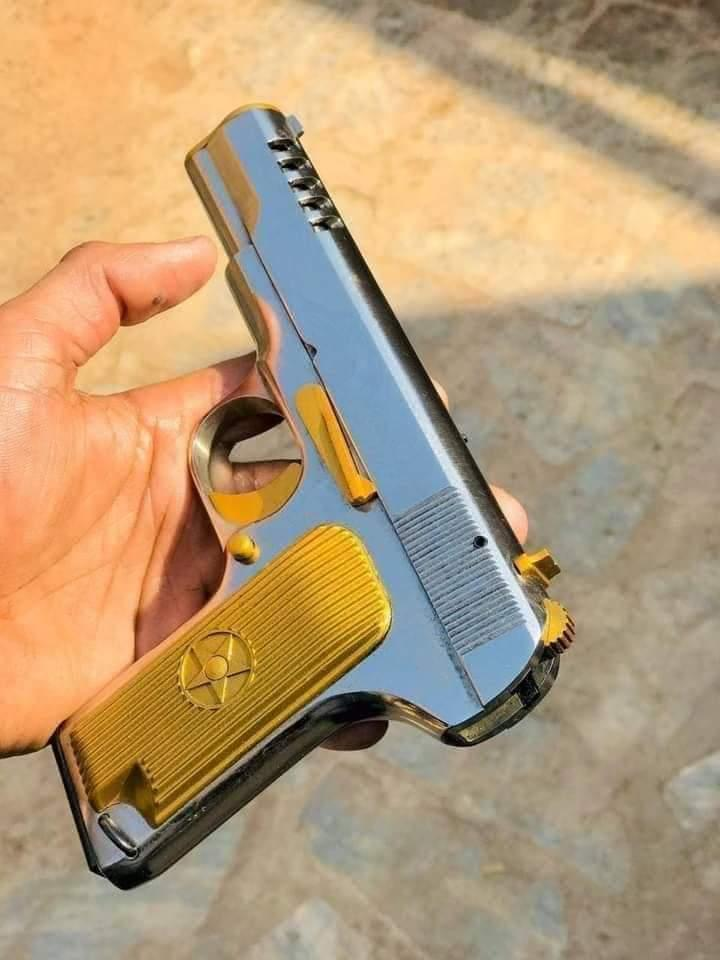weapon: (52, 104, 576, 890)
